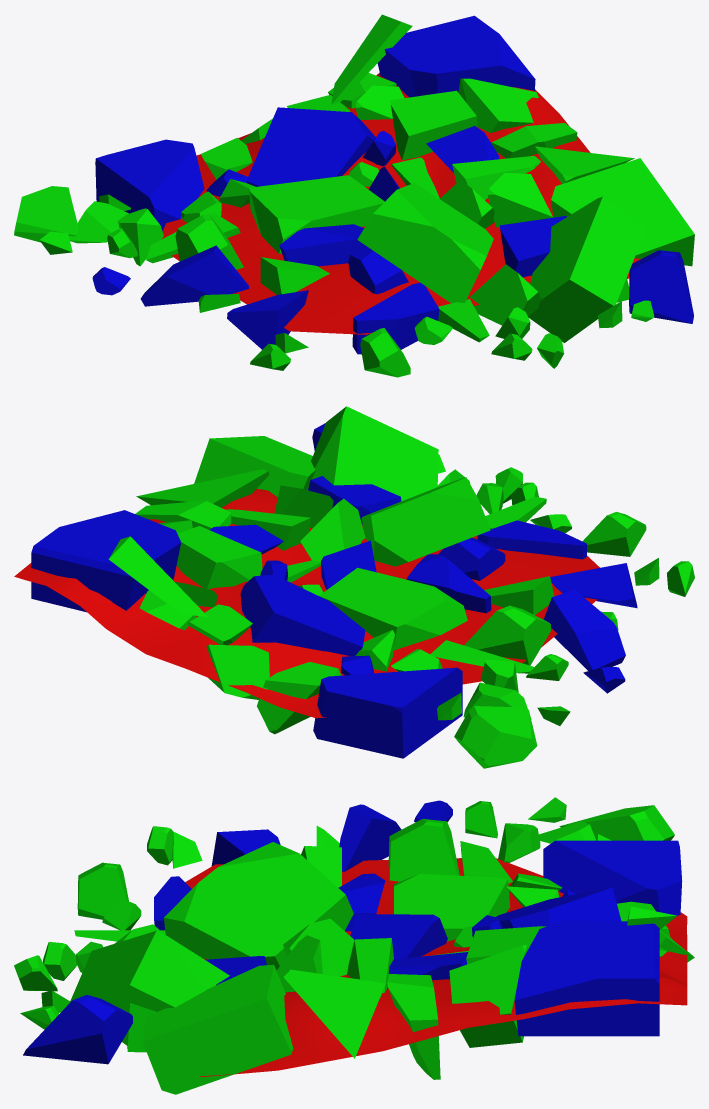
The model's file is SM_Debris_Corner01.FBX.
3 views of the same model, one above another, from view 1: azimuth 30°, elevation 25°; view 2: azimuth 150°, elevation 25°; view 3: azimuth 270°, elevation 25° (orthographic). The views are drawn at different scales.
Visible parts, largest first — view 1: Base_Debris_Corner; view 2: Base_Debris_Corner; view 3: Base_Debris_Corner.
Boxes of the visible parts, x1,y1,x2,y2 form: Base_Debris_Corner: (14,14,694,377); Base_Debris_Corner: (14,406,694,768); Base_Debris_Corner: (14,797,694,1094).
Bounding box in the file's own units: 578 × 581 × 162.
